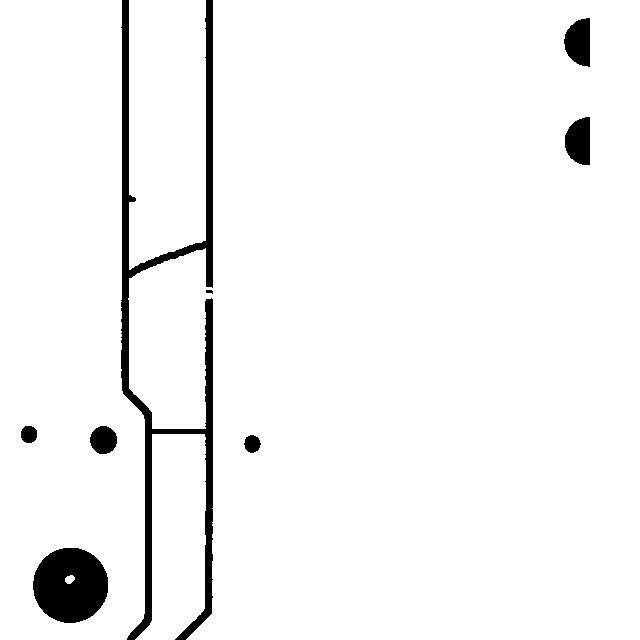open: (188, 277, 227, 308)
pin-hole: (55, 565, 84, 593)
short: (117, 231, 217, 287), (138, 419, 220, 443)
spur: (116, 185, 145, 211)
